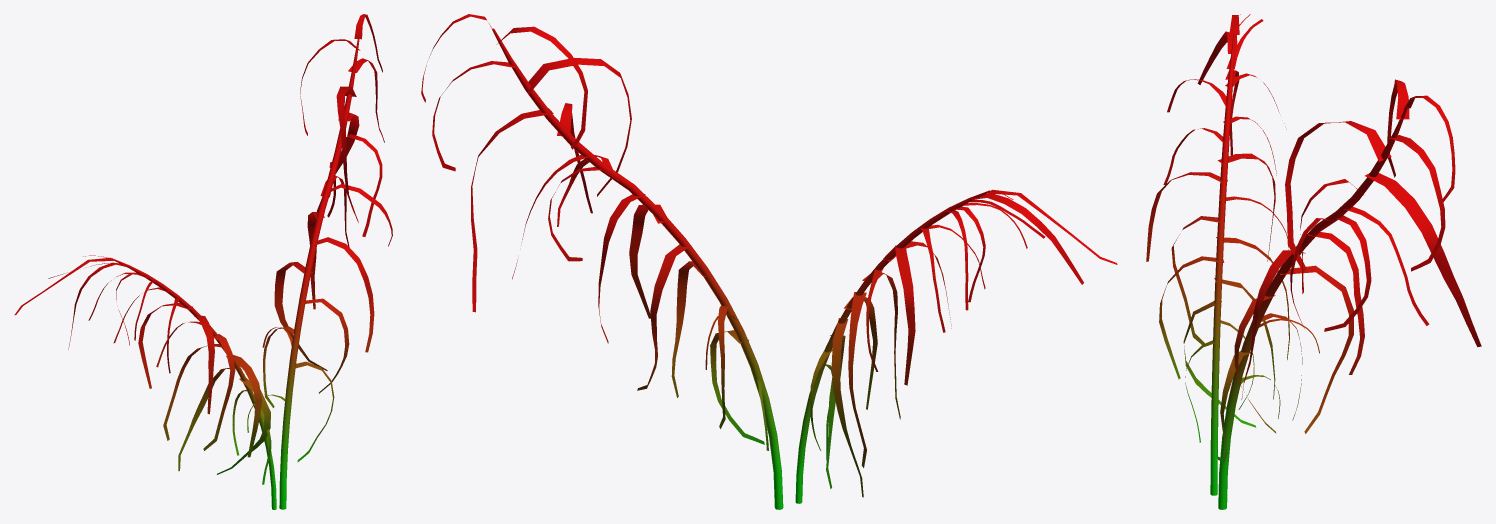
File: Giant Reed_LOD0_Var4_sjllX.fbx
The picture shows the model from 3 angles, left to right: view 1: azimuth 30°, elevation 25°; view 2: azimuth 150°, elevation 25°; view 3: azimuth 270°, elevation 25°; orthographic projection. The views are drawn at different scales.
Parts seen in each view (by area): view 1: _c4de_Var4_LOD0; view 2: _c4de_Var4_LOD0; view 3: _c4de_Var4_LOD0.
Part boxes in pixels (left/top/right/bottom): _c4de_Var4_LOD0: left=14, top=14, right=392, bottom=509; _c4de_Var4_LOD0: left=421, top=14, right=1117, bottom=509; _c4de_Var4_LOD0: left=1146, top=14, right=1481, bottom=509.
Size of the model in its own units: 139 by 117 by 69.63.
